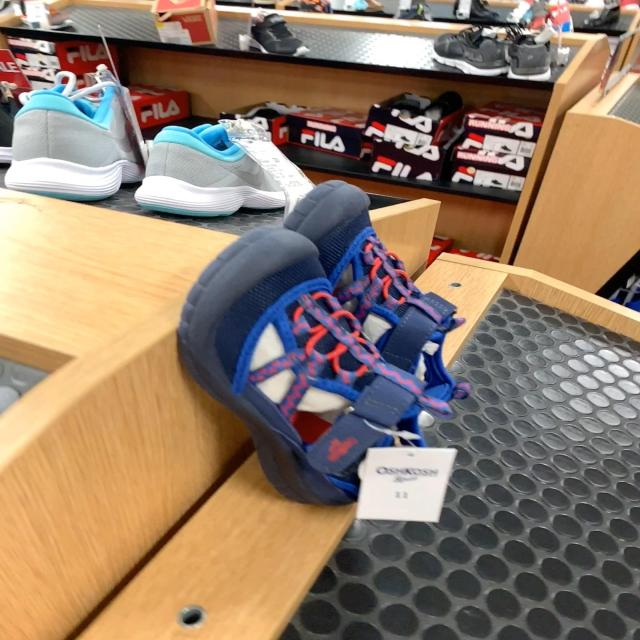shoe: (181, 232, 426, 506), (331, 228, 459, 441)
